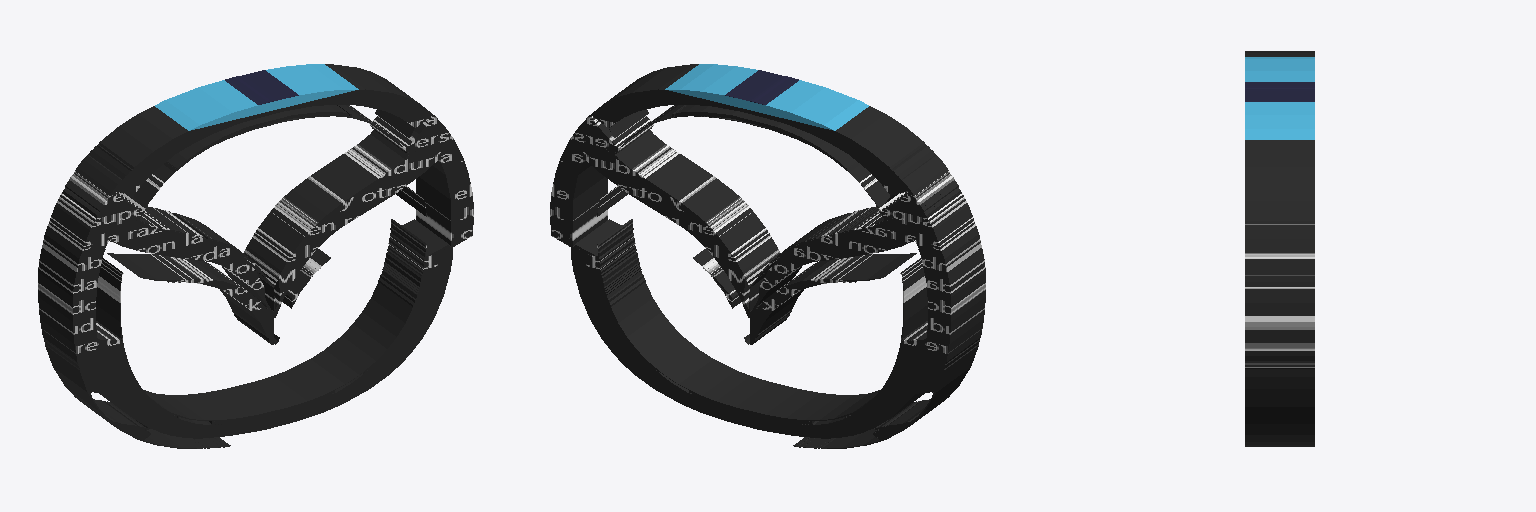
3 views of the same model, side by side, from view 1: azimuth 30°, elevation 25°; view 2: azimuth 150°, elevation 25°; view 3: azimuth 270°, elevation 25° (orthographic).
Parts seen in each view (by area): view 1: Object.1; view 2: Object.1; view 3: Object.1.
Boxes of the visible parts, box(x1,y1,x2,y2) form: Object.1: box(38, 64, 473, 448); Object.1: box(550, 64, 985, 448); Object.1: box(1245, 51, 1314, 446).
Size of the model in its own units: 164 by 131 by 24.51.
1 materials, 1 textured.